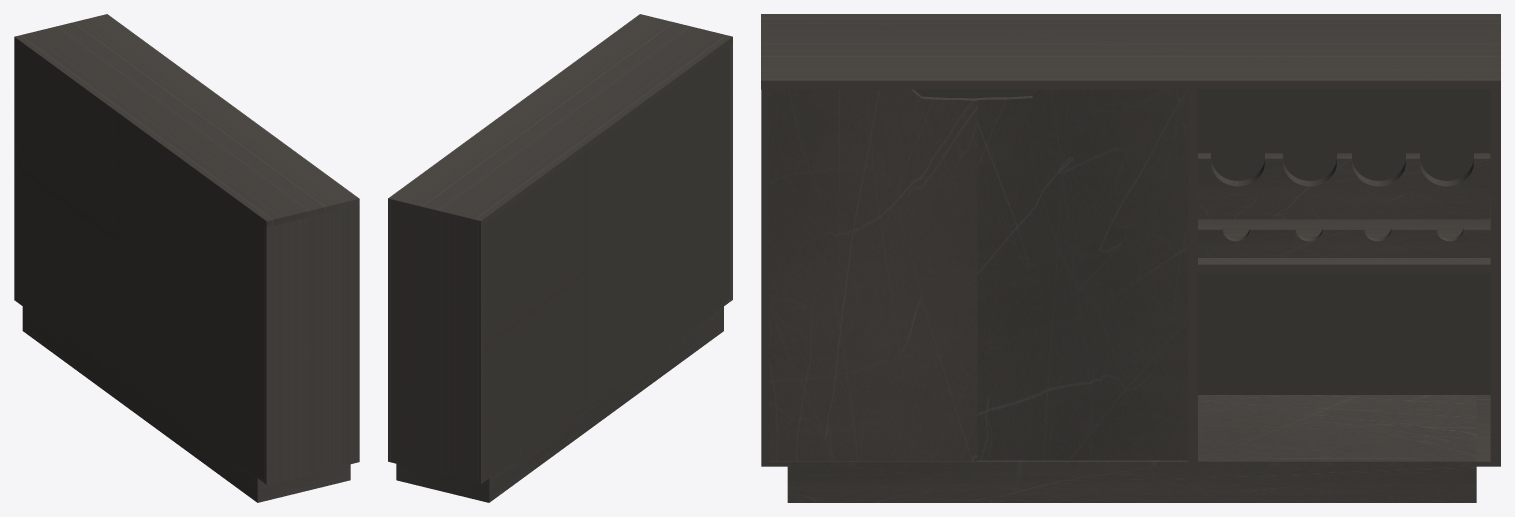
The model's file is vinero.gltf.
3 renders of one model, left to right at view 1: azimuth 30°, elevation 25°; view 2: azimuth 150°, elevation 25°; view 3: azimuth 270°, elevation 25°, orthographic. The views are drawn at different scales.
Parts seen in each view (by area): view 1: Cube.012; view 2: Cube.012; view 3: Cube.012.
Part boxes in pixels (left/top/right/bottom): Cube.012: left=14, top=14, right=359, bottom=502; Cube.012: left=388, top=14, right=732, bottom=502; Cube.012: left=761, top=14, right=1500, bottom=502.
Bounding box in the file's own units: 2 × 5.92 × 9.4.
1 material, 1 textured.
